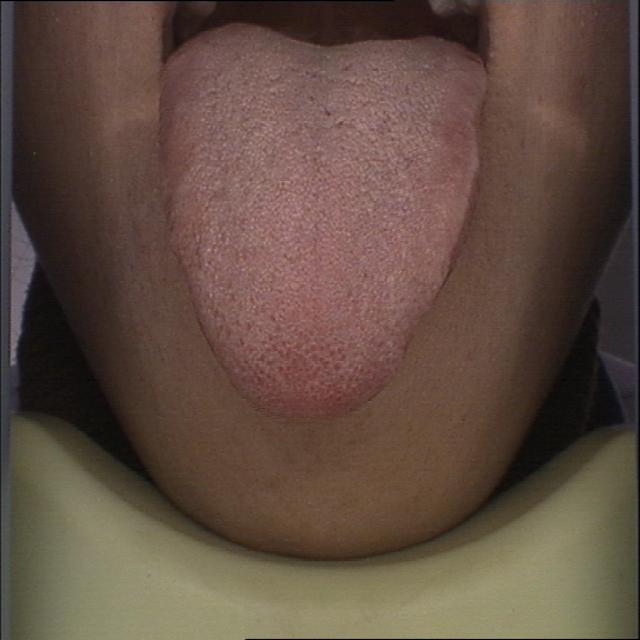baitaishe: (156, 22, 491, 423)
hongdianshe: (251, 331, 344, 395)
pangdashe: (156, 21, 491, 422)
